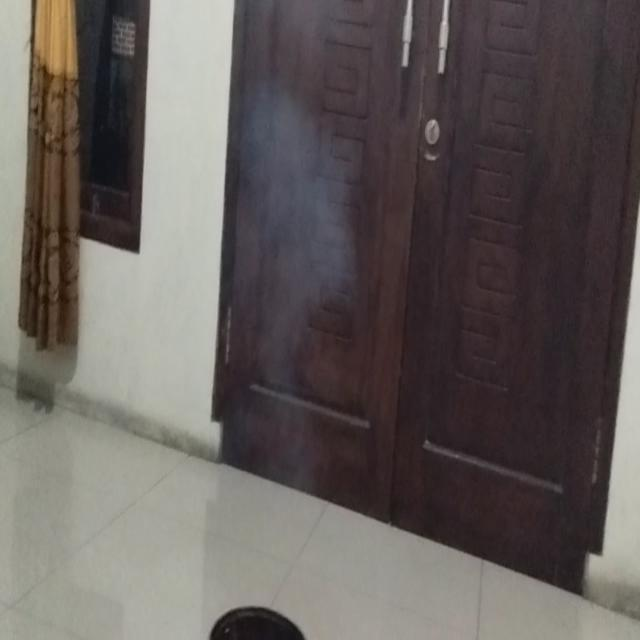fire: (233, 80, 356, 326)
